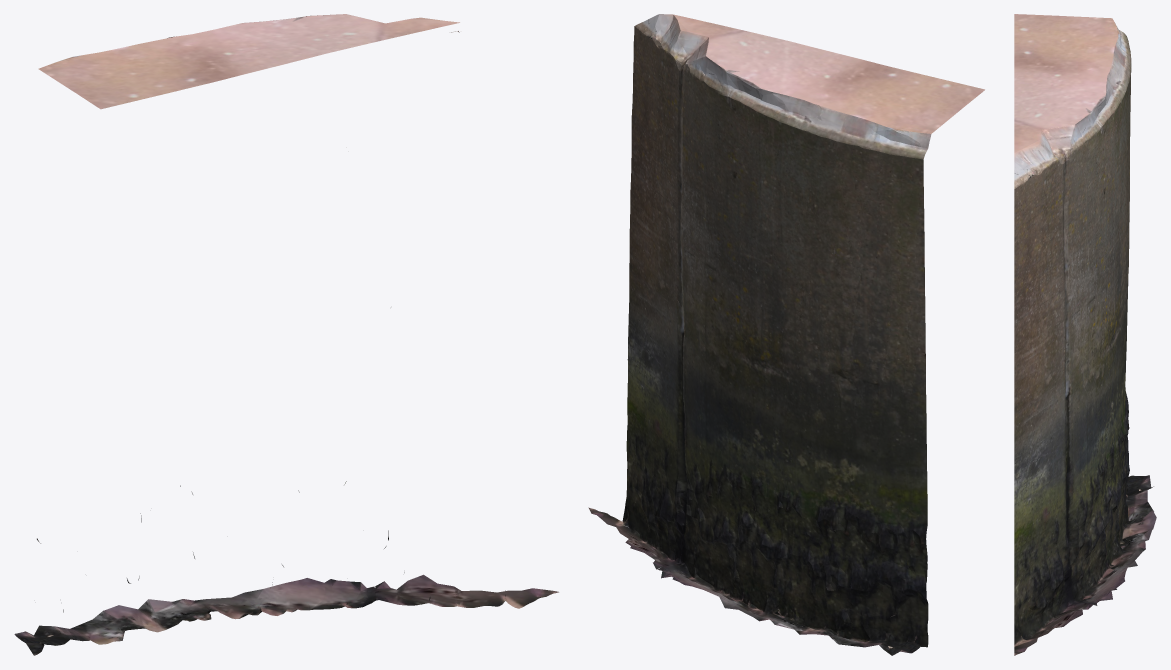
3 views of the same model, side by side, from view 1: azimuth 30°, elevation 25°; view 2: azimuth 150°, elevation 25°; view 3: azimuth 270°, elevation 25° (orthographic). The views are drawn at different scales.
Size of the model in its own units: 3 by 3.79 by 1.03.
Materials: 1 (1 with a texture image).
